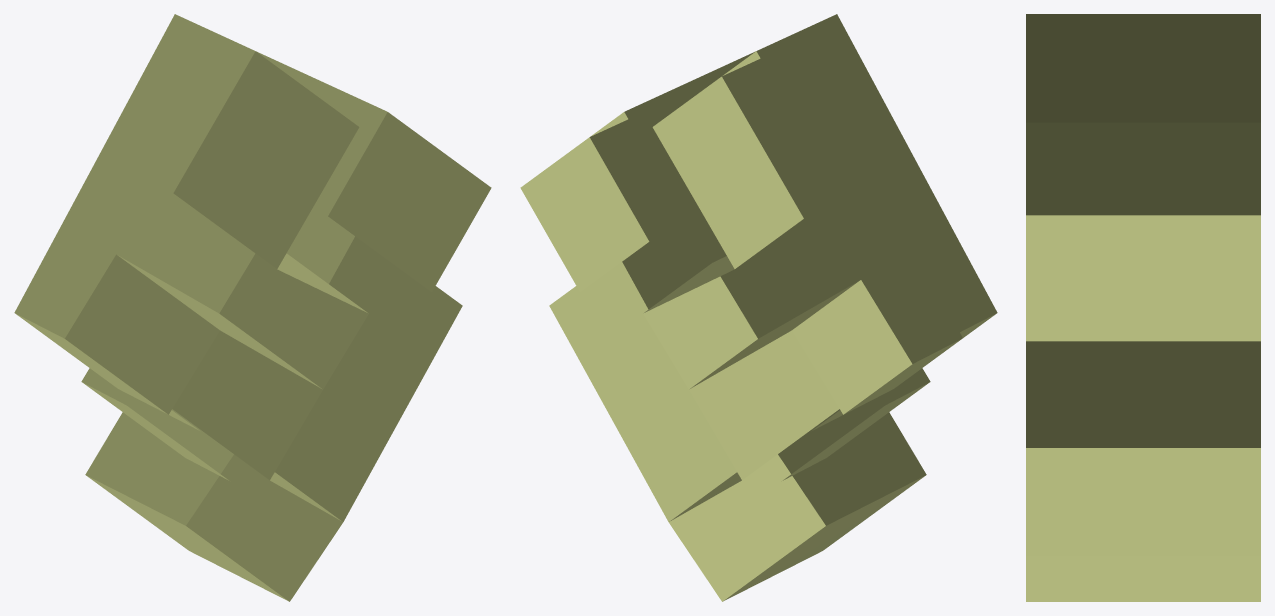
The picture shows the model from 3 angles, left to right: view 1: azimuth 30°, elevation 25°; view 2: azimuth 150°, elevation 25°; view 3: azimuth 270°, elevation 25°; orthographic projection. The views are drawn at different scales.
Visible parts, largest first — view 1: 0_1_1_3_3_1_0_3_2_0; view 2: 0_1_1_3_3_1_0_3_2_0; view 3: 0_1_1_3_3_1_0_3_2_0.
Boxes of the visible parts, box(x1,y1,x2,y2) form: 0_1_1_3_3_1_0_3_2_0: box(14, 14, 491, 601); 0_1_1_3_3_1_0_3_2_0: box(520, 14, 997, 601); 0_1_1_3_3_1_0_3_2_0: box(1026, 14, 1260, 601).
Bounding box in the file's own units: 18.68 × 24.6 × 9.
